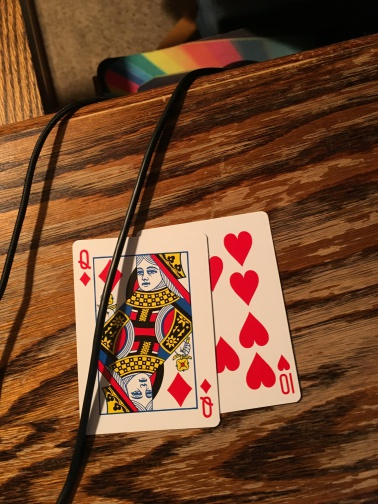queen: (68, 234, 223, 430)
ten: (207, 210, 301, 413)
